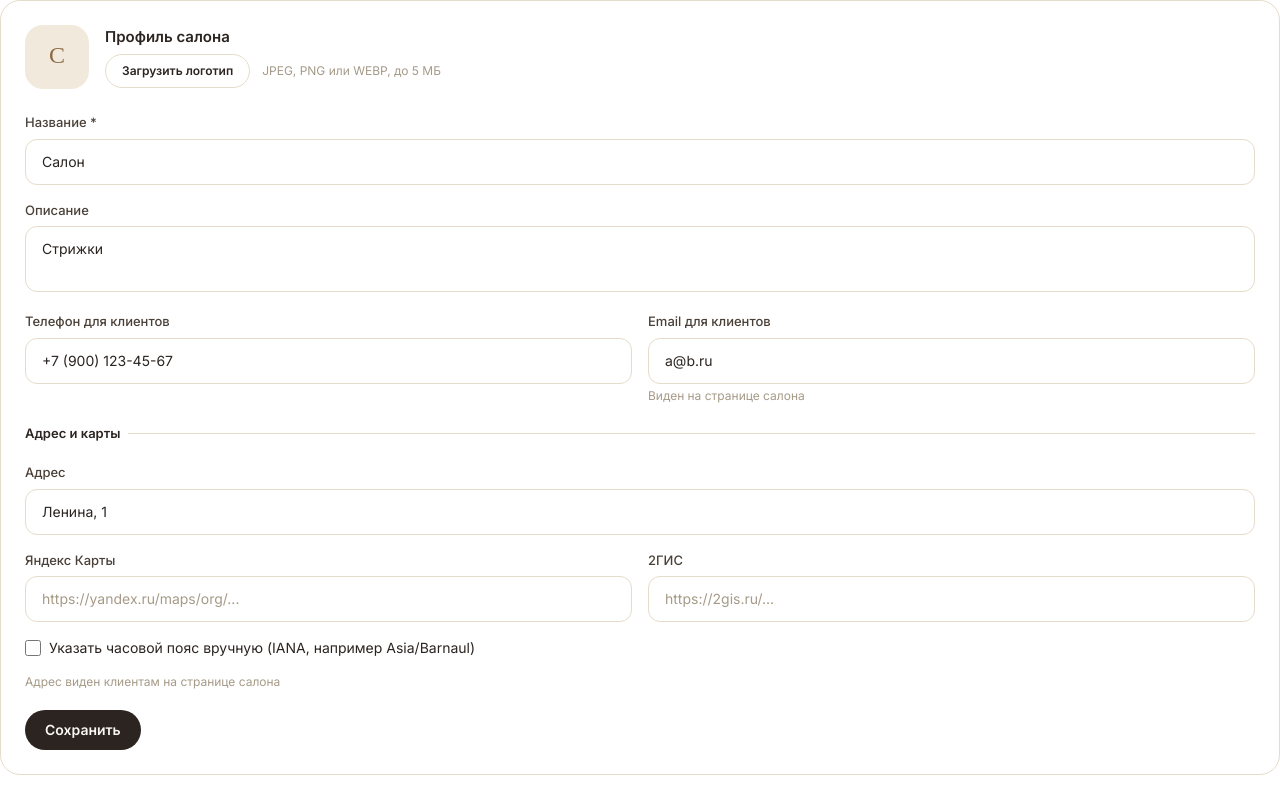
it: SalonProfileSection — ARCHITECTURE_CYCLE32.md §32.5.2 › V32-09: empty name -> error at the field, no request
Clear the field labelled "Название *": (640, 162) [25,138,1255,184]
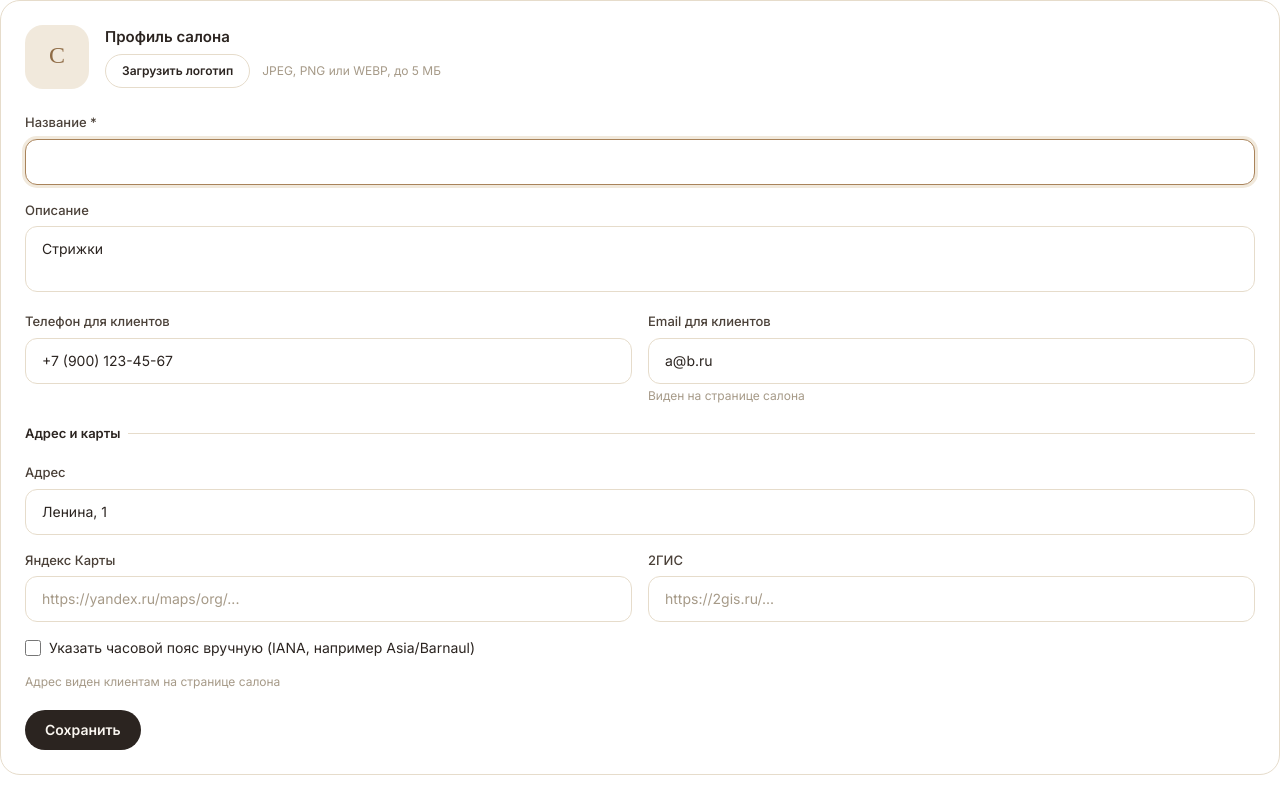
Click the button "Сохранить": (83, 730) [25,710,141,750]
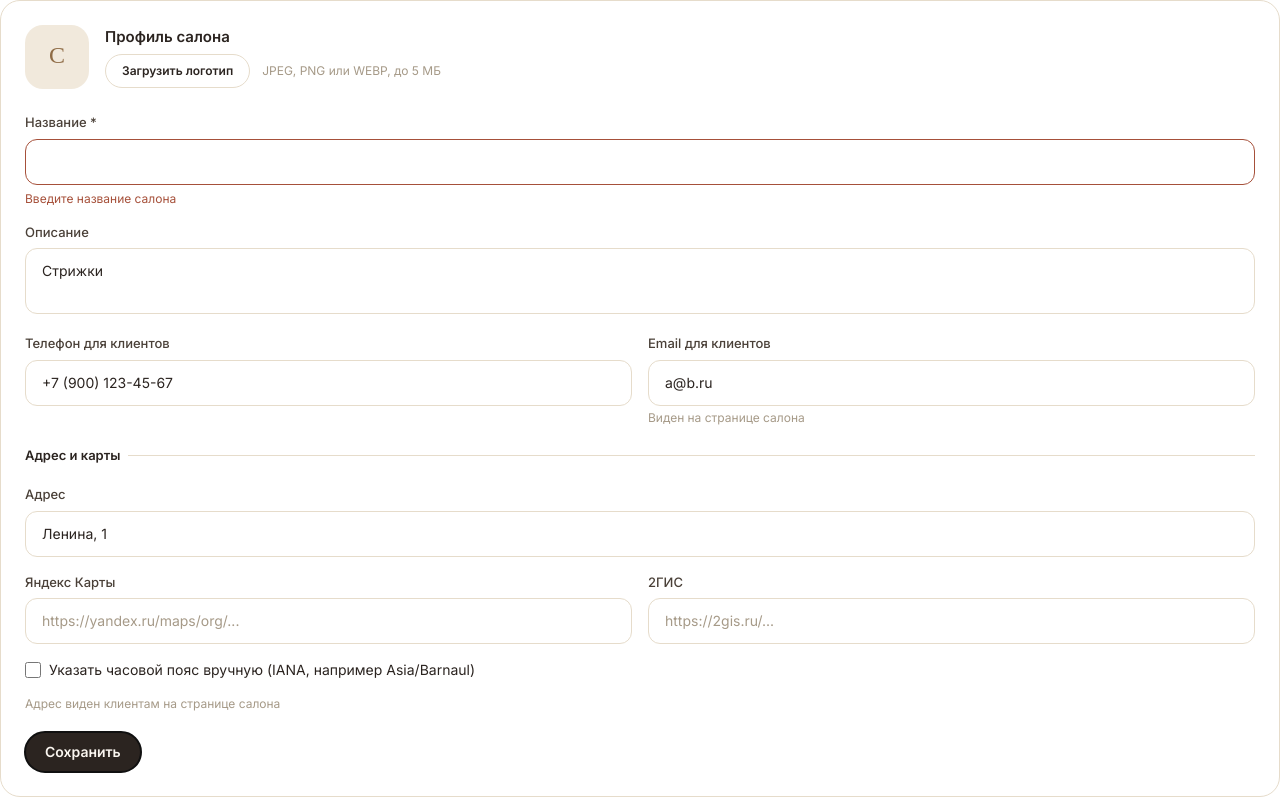
Result: the text "Введите название салона" is shown at [25,190,176,206]
